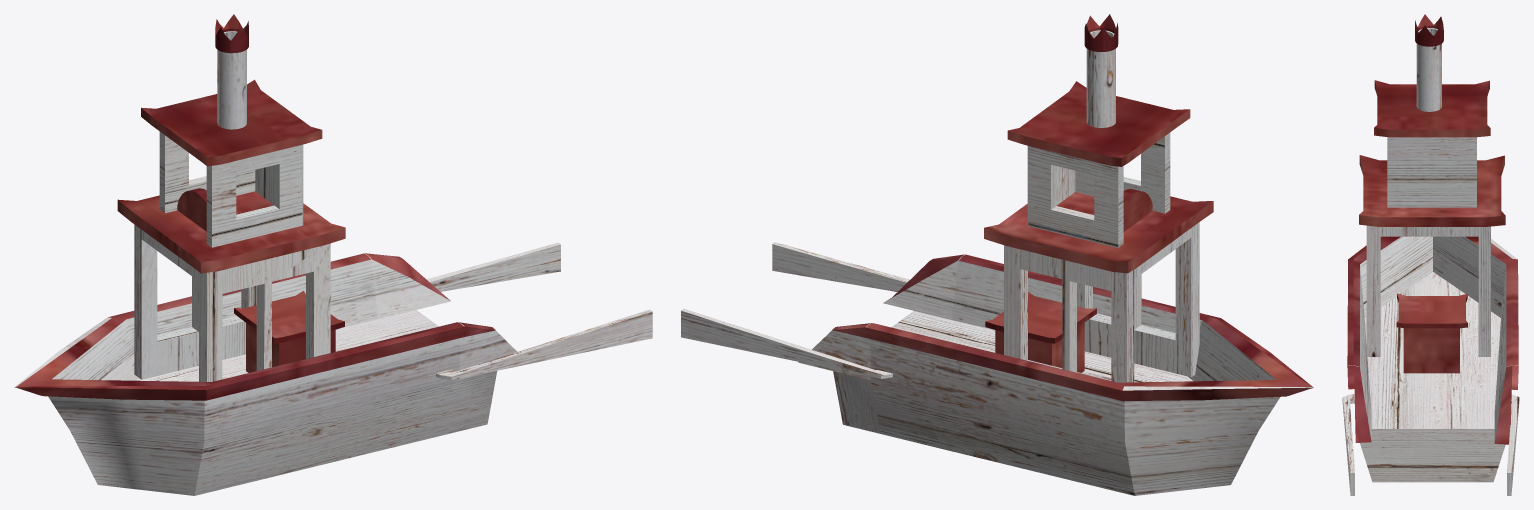
Rendered from boatHullnew.fbx.
3 renders of one model, left to right at view 1: azimuth 30°, elevation 25°; view 2: azimuth 150°, elevation 25°; view 3: azimuth 270°, elevation 25°, orthographic. The views are drawn at different scales.
Visible parts, largest first — view 1: curve2; view 2: curve2; view 3: curve2.
Part boxes in pixels (<box>): curve2: <box>14,14,652,495</box>; curve2: <box>681,14,1313,495</box>; curve2: <box>1342,14,1519,495</box>.
Size of the model in its own units: 24.27 by 17.03 by 7.38.
2 materials, 2 textured.
